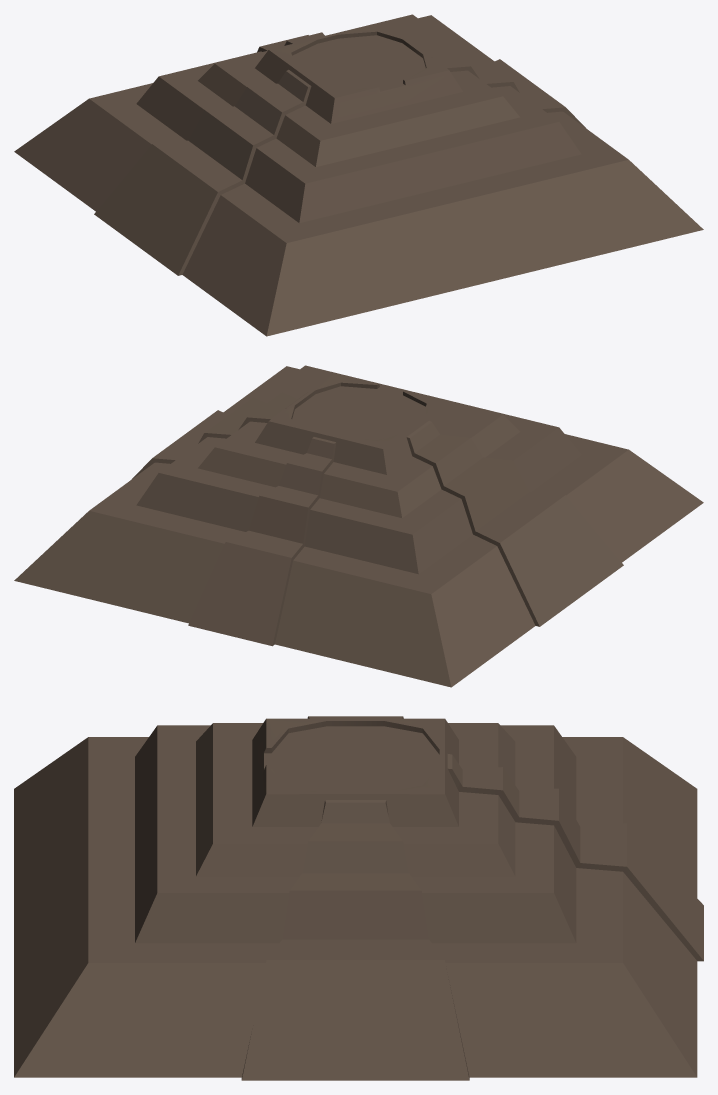
Rendered from Arena.fbx.
The picture shows the model from 3 angles, top to bottom: view 1: azimuth 30°, elevation 25°; view 2: azimuth 150°, elevation 25°; view 3: azimuth 270°, elevation 25°; orthographic projection. The views are drawn at different scales.
Visible parts, largest first — view 1: Arena; view 2: Arena; view 3: Arena.
Boxes of the visible parts, bbox=[...] form: Arena: bbox=[14, 14, 703, 336]; Arena: bbox=[14, 365, 703, 687]; Arena: bbox=[14, 716, 703, 1080].
Bounding box in the file's own units: 11329 × 3176 × 11221.
